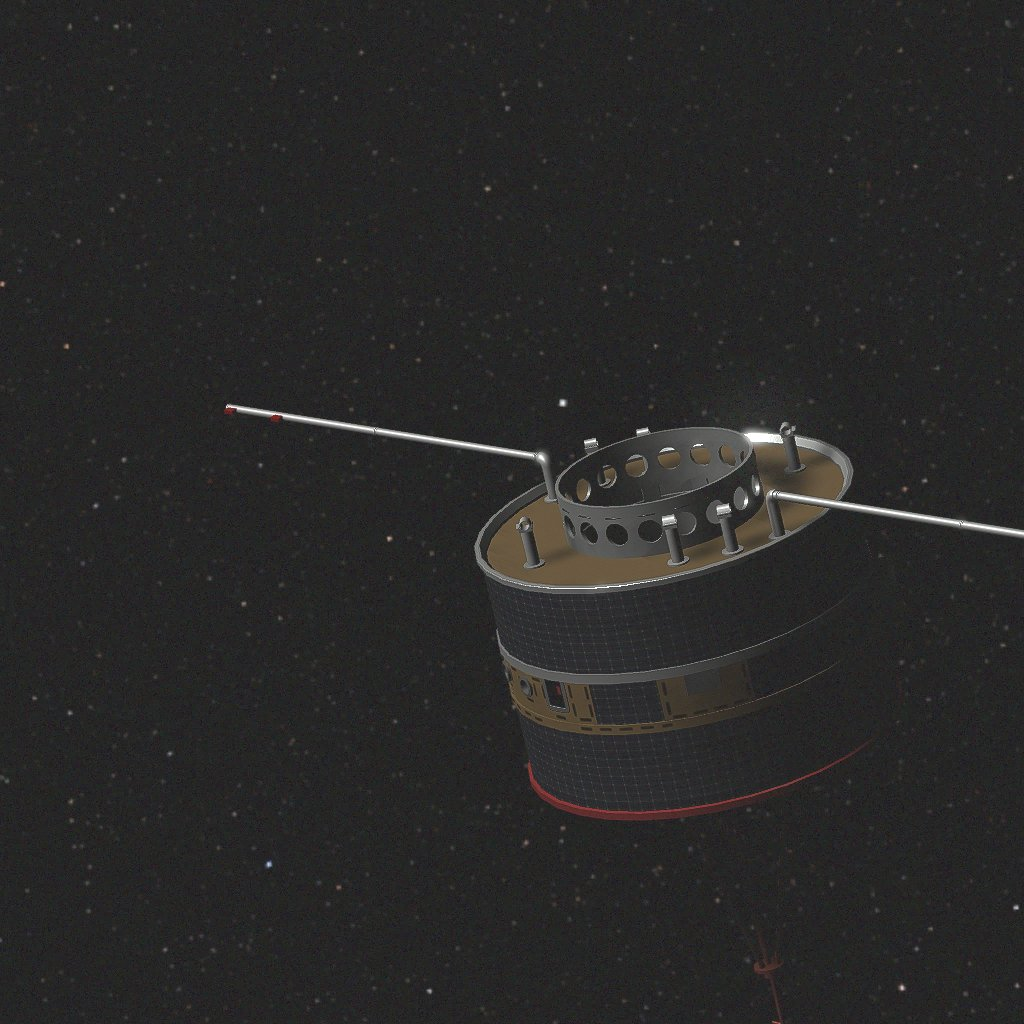double_star: (224, 404, 1024, 1024)
